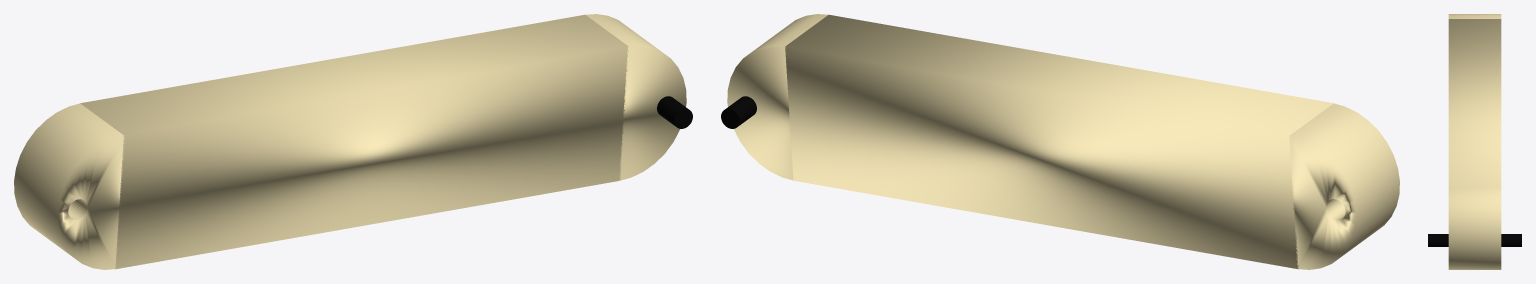
File: final_robot_joint1.dae
3 views of the same model, side by side, from view 1: azimuth 30°, elevation 25°; view 2: azimuth 150°, elevation 25°; view 3: azimuth 270°, elevation 25° (orthographic). The views are drawn at different scales.
Visible parts, largest first — view 1: 1; view 2: 1; view 3: 1.
Part boxes in pixels (x1,y1,x2,y2): 1: (14, 14, 692, 269); 1: (721, 14, 1399, 269); 1: (1428, 14, 1521, 269).
Bounding box in the file's own units: 1.49 × 0.32 × 0.3778.
